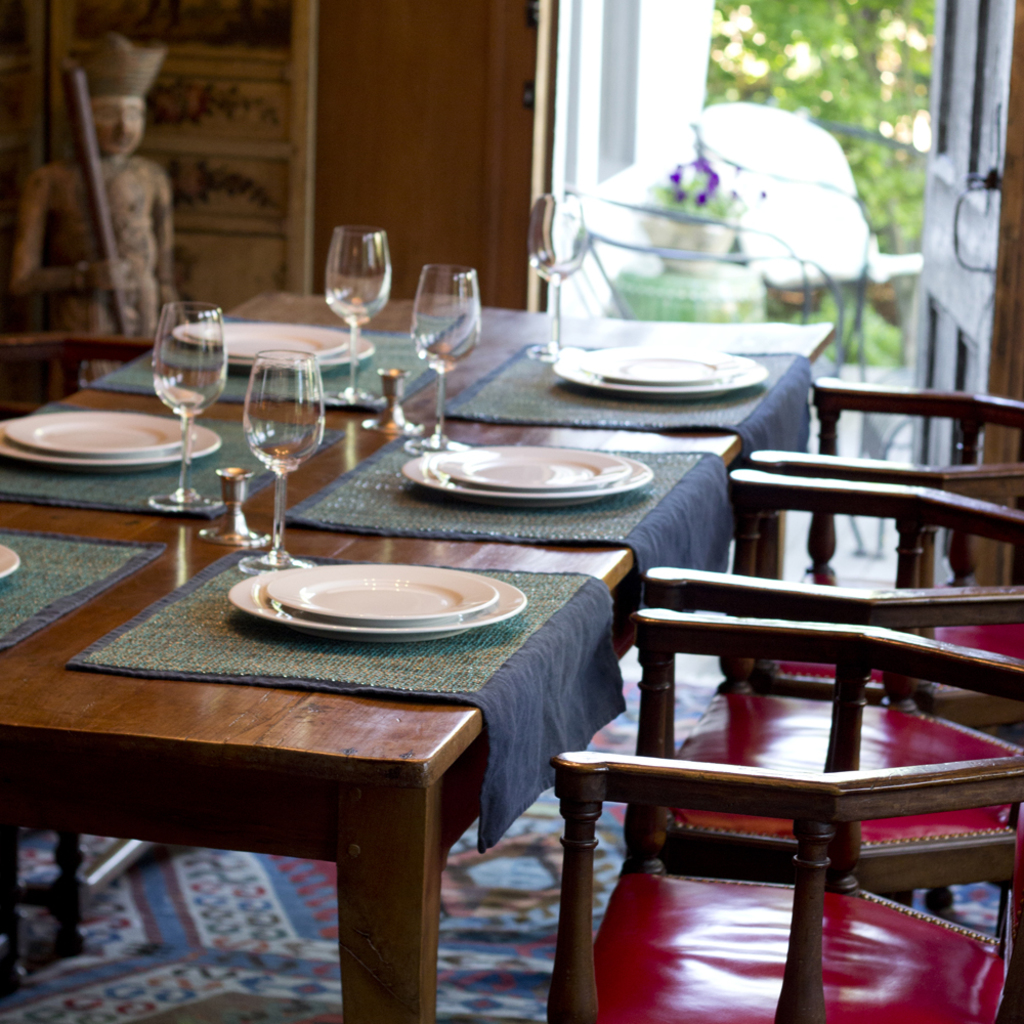plate: (265, 560, 499, 620), (435, 442, 628, 495), (589, 339, 735, 384)
